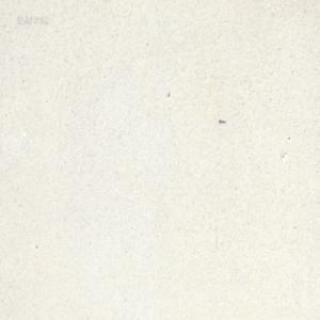Nailtrack_idkeyframe: (218, 118, 225, 123)
